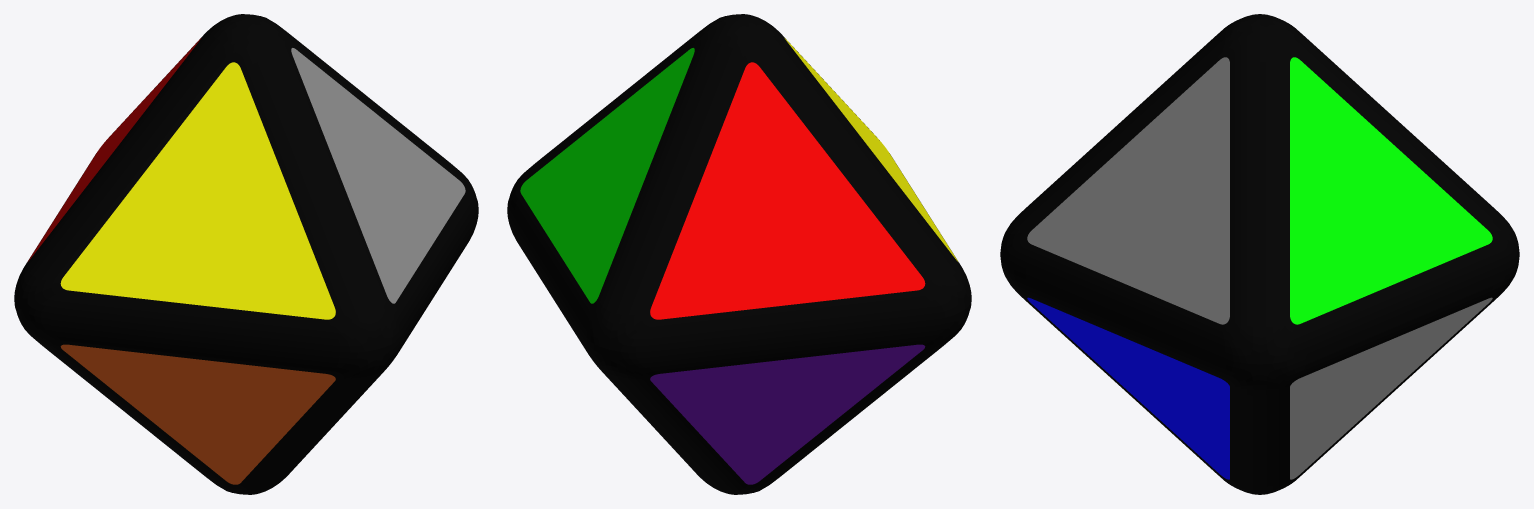
File: o_full.fbx
3 renders of one model, left to right at view 1: azimuth 30°, elevation 25°; view 2: azimuth 150°, elevation 25°; view 3: azimuth 270°, elevation 25°, orthographic.
Parts seen in each view (by area): view 1: o_full; view 2: o_full; view 3: o_full.
Part boxes in pixels (x1,y1,x2,y2): o_full: (14,14,478,494); o_full: (507,14,971,494); o_full: (1000,14,1519,494).
Bounding box in the file's own units: 174 × 174 × 174.
